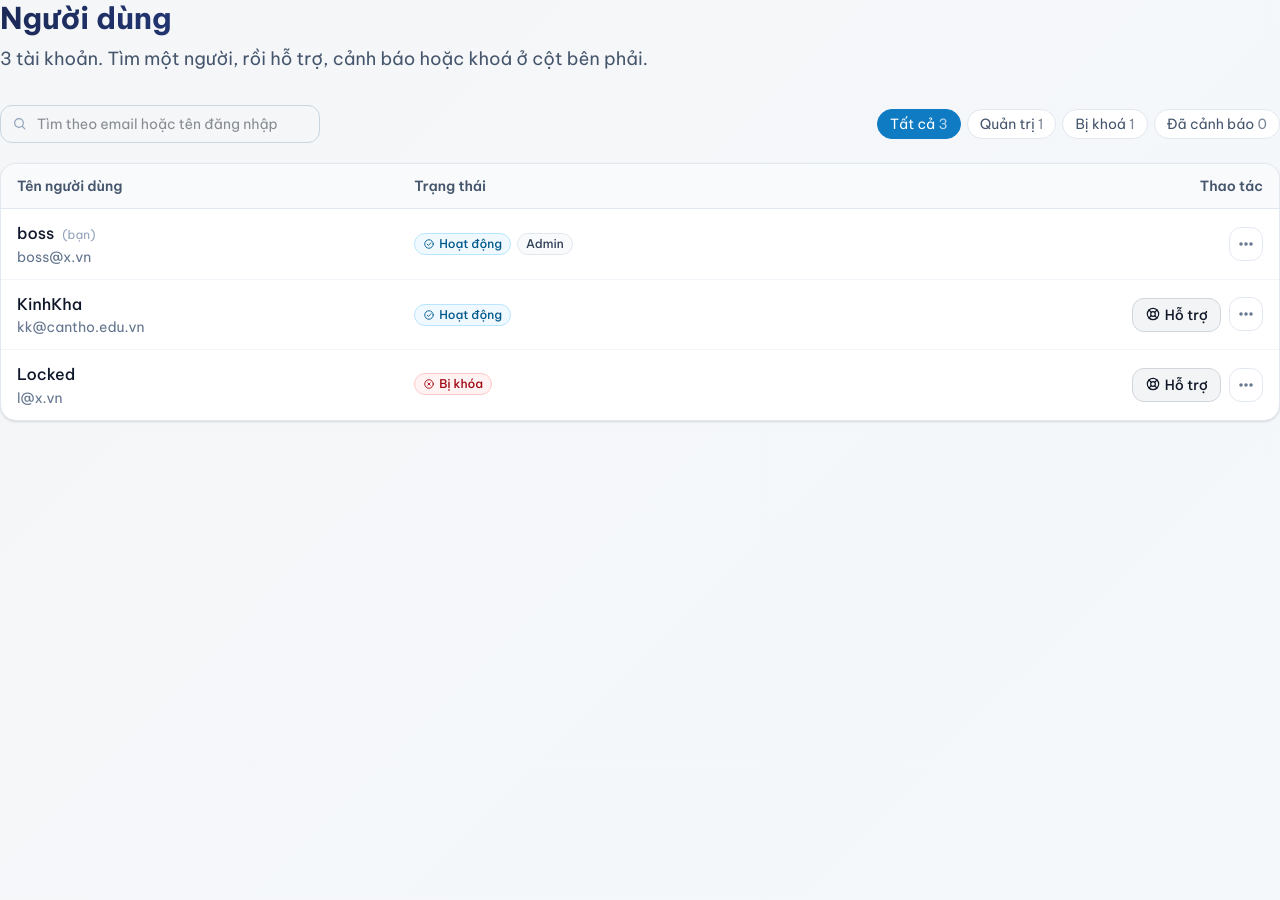
Test: AdminUsersPage › lọc theo ô tìm kiếm và theo nhóm
The width and height of the screenshot is (1280, 900).
Expected: the text "KinhKha" is shown, [17,294,82,314]
Type "kinh" into the search field at (160, 124), box [0,105,320,143]
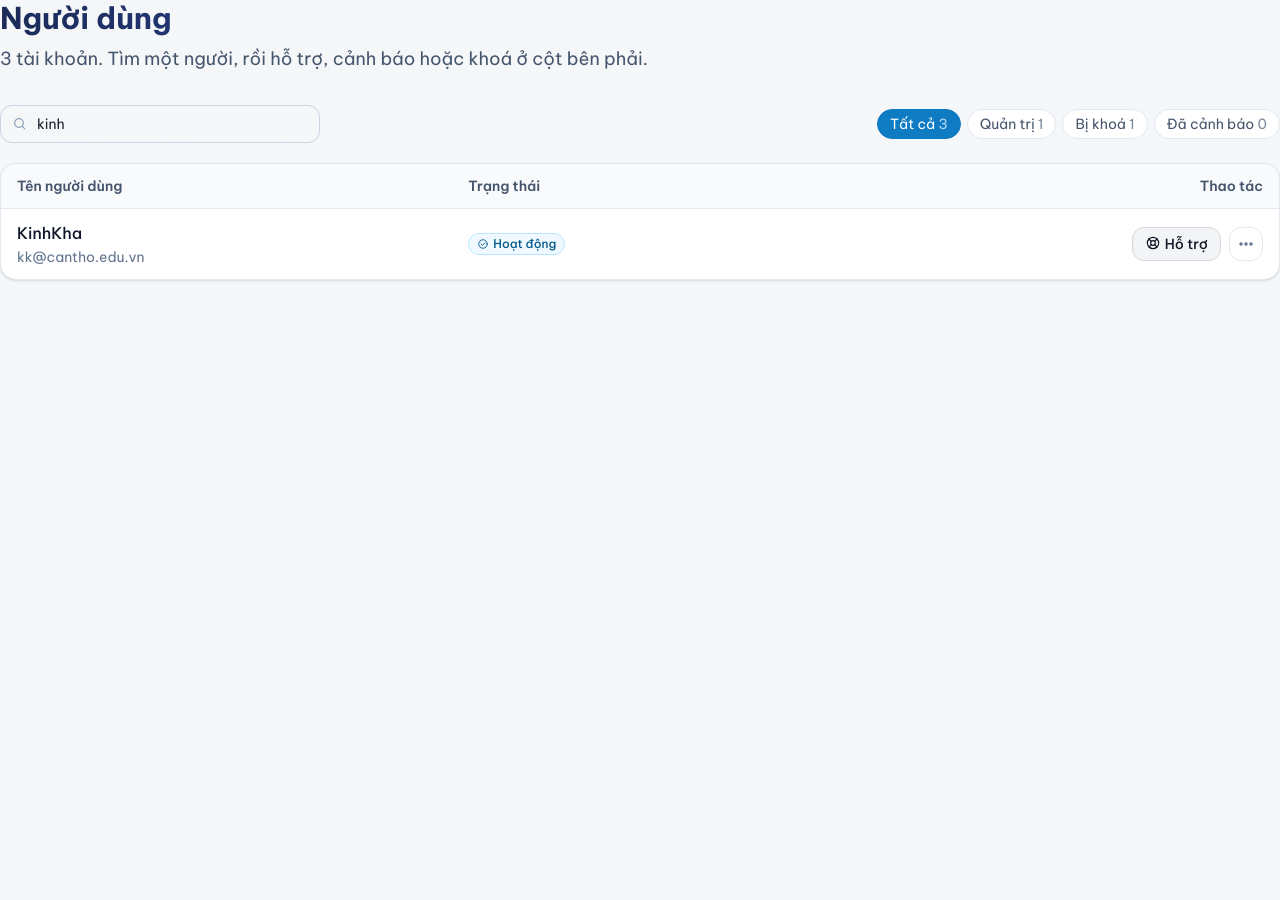
Expected: the text "KinhKha" is shown, [17,223,82,243]
Result: the text "Locked" is gone
Clear the search field at (160, 124), box [0,105,320,143]
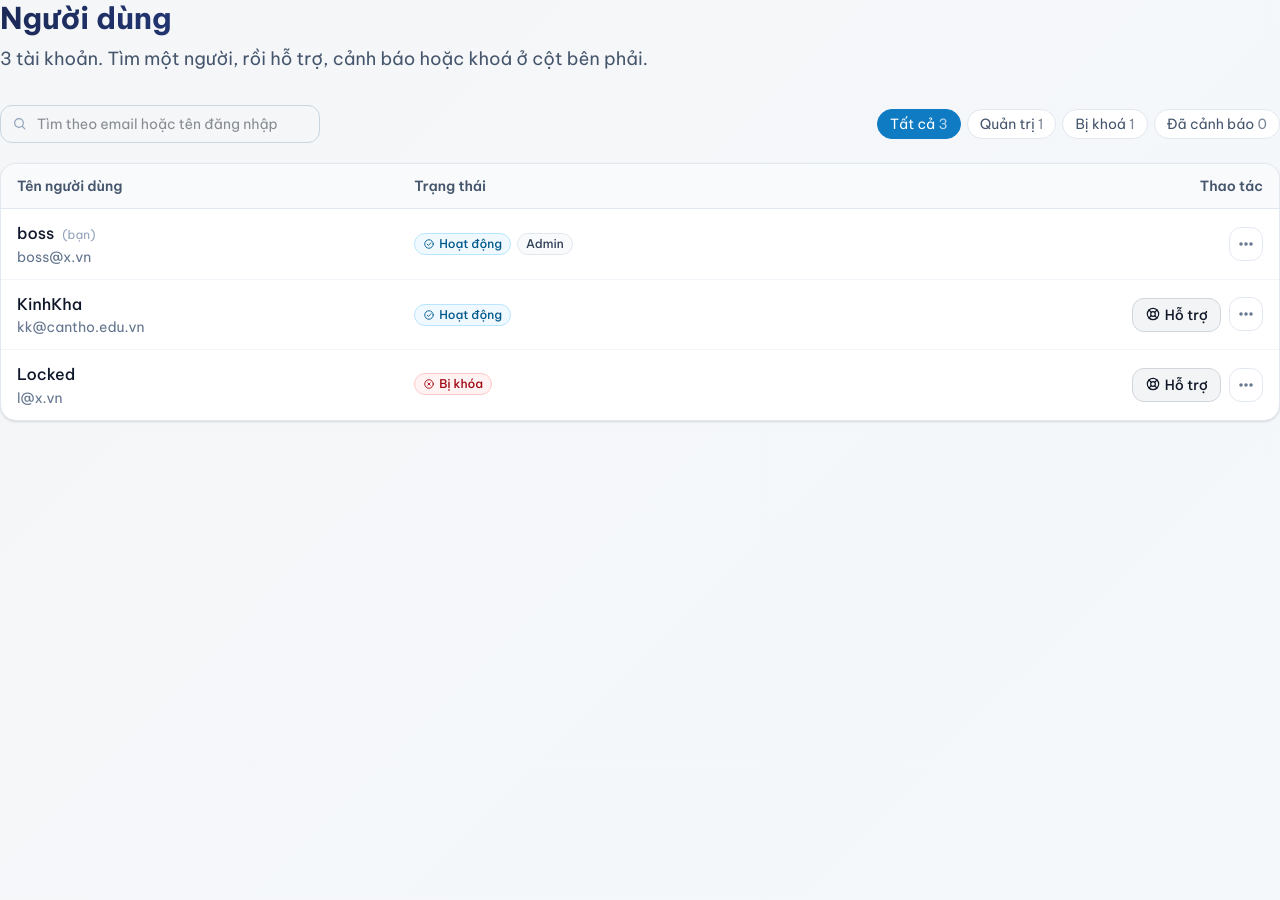
Click the button "Bị khoá 1" at (1105, 124), box [1062,109,1148,139]
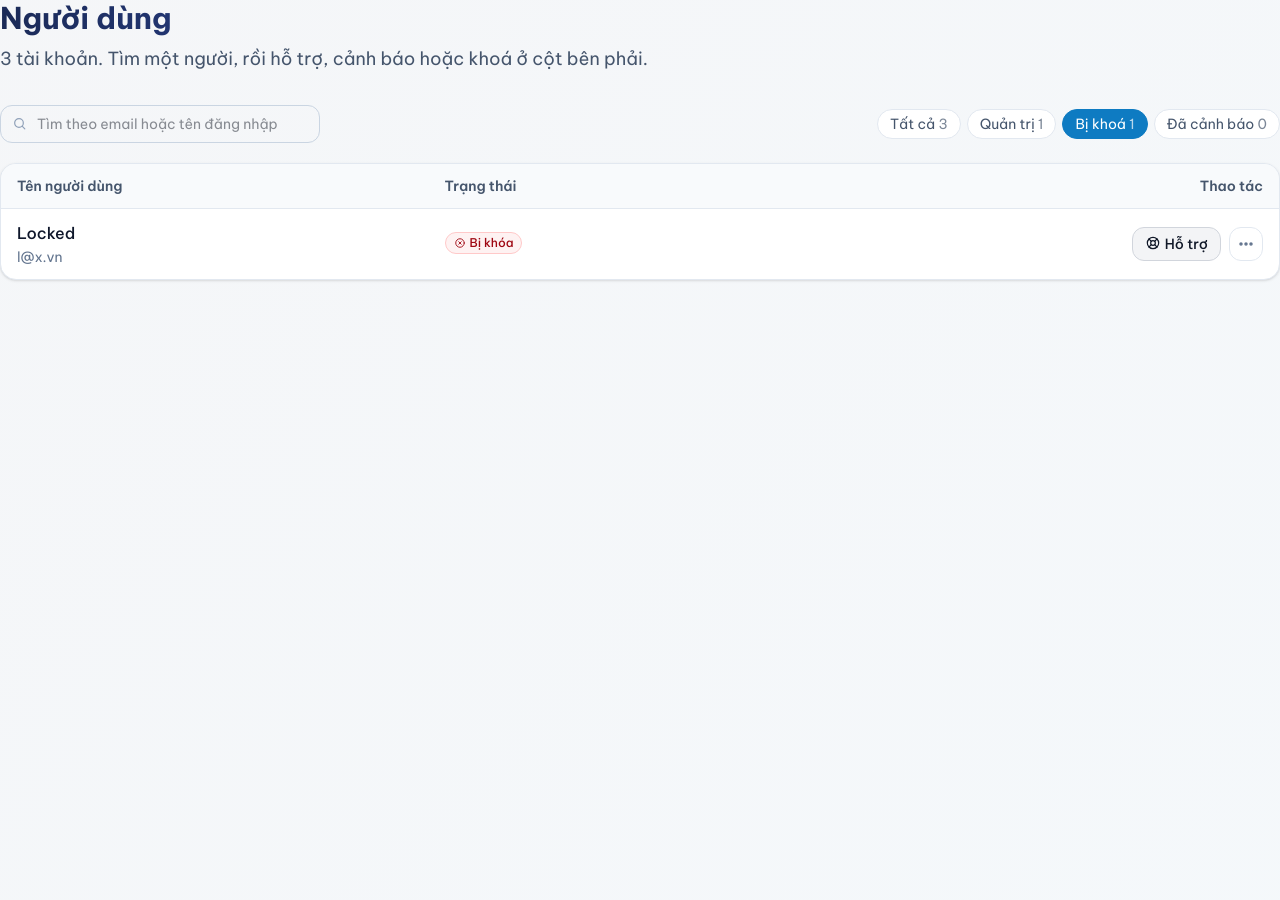
Result: the text "Locked" is shown at [17,223,75,243]
Result: the text "KinhKha" is gone
